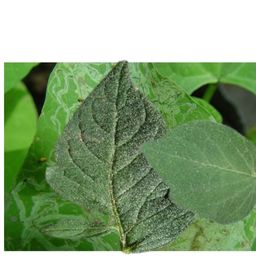liriomyza: (12, 182, 114, 252), (47, 61, 115, 136), (128, 61, 197, 131), (166, 214, 256, 253)
